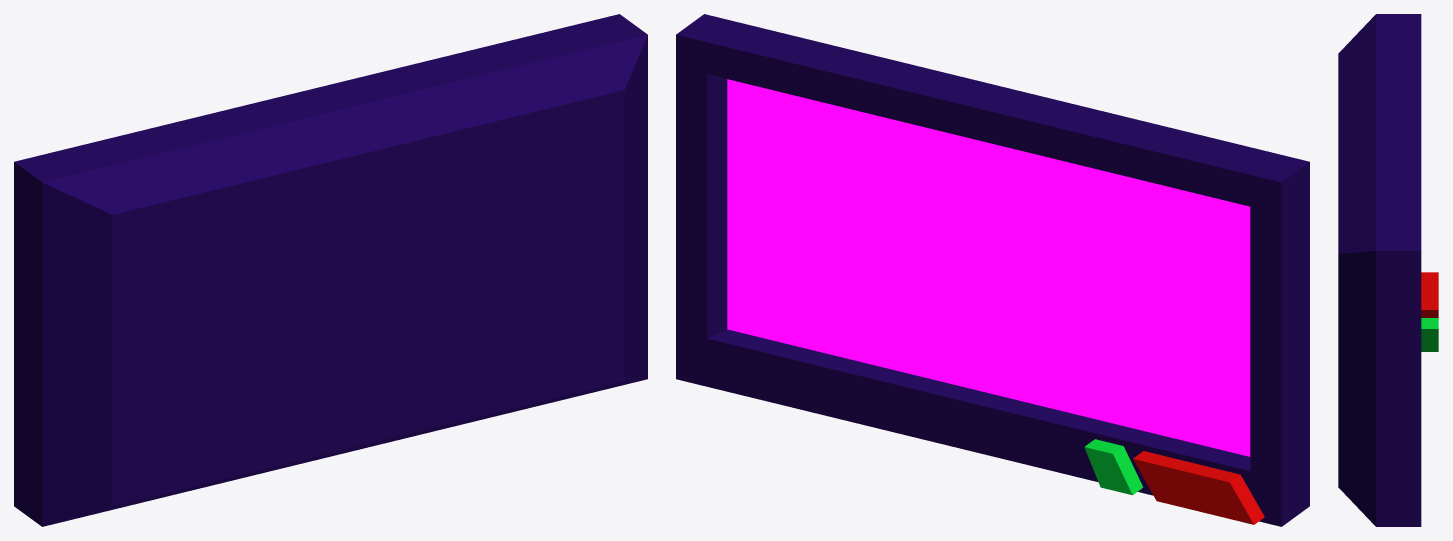
Rendered from monitor_2.fbx.
3 renders of one model, left to right at view 1: azimuth 30°, elevation 25°; view 2: azimuth 150°, elevation 25°; view 3: azimuth 270°, elevation 25°, orthographic. The views are drawn at different scales.
Parts seen in each view (by area): view 1: monitor; view 2: screen, monitor; view 3: monitor.
Part boxes in pixels (x1,y1,x2,y2): monitor: (14,14,647,526); screen: (727,79,1250,456); monitor: (676,14,1309,526); monitor: (1338,14,1438,526).
Bounding box in the file's own units: 112 × 60.73 × 20.
